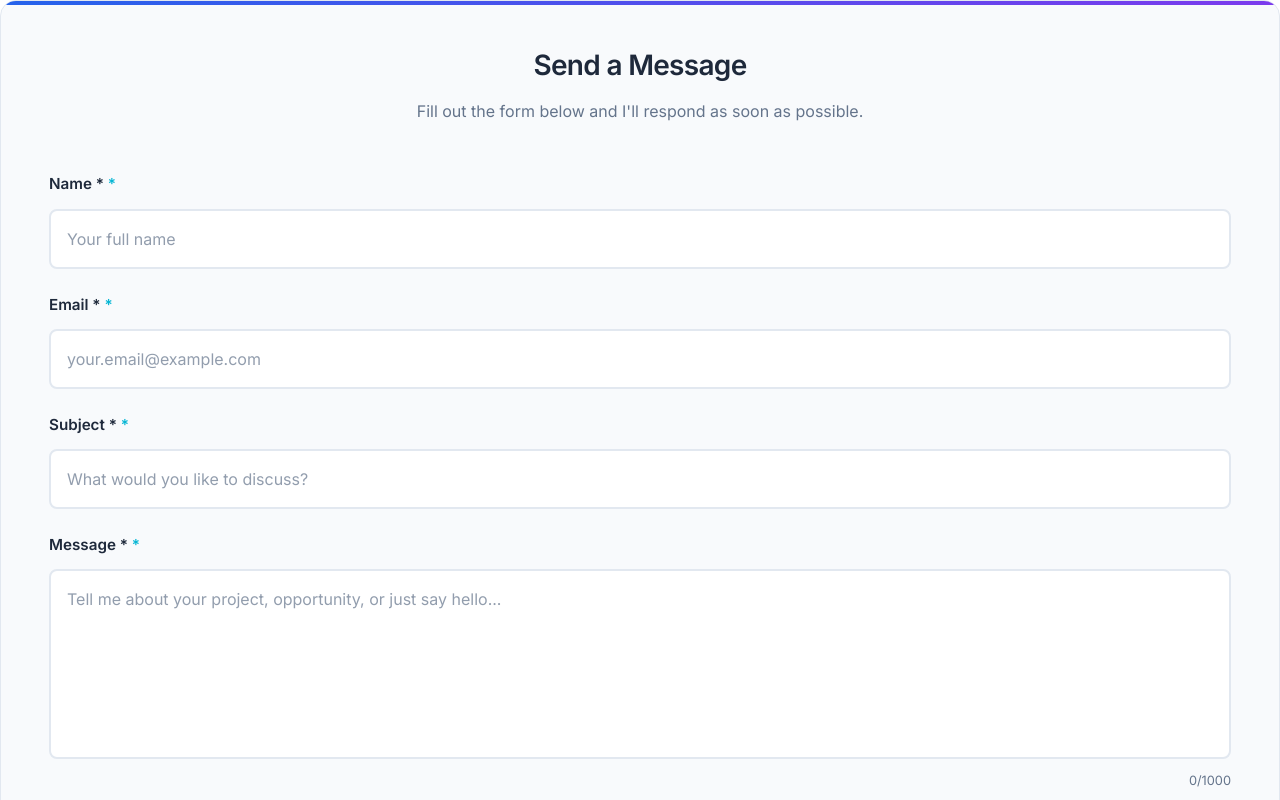
Test: Accessibility Compliance Tests › Screen Reader Support › should announce dynamic content changes
# Trigger validation error
Type "invalid" into the field labelled "Email *" at (640, 359), box [49, 329, 1231, 389]
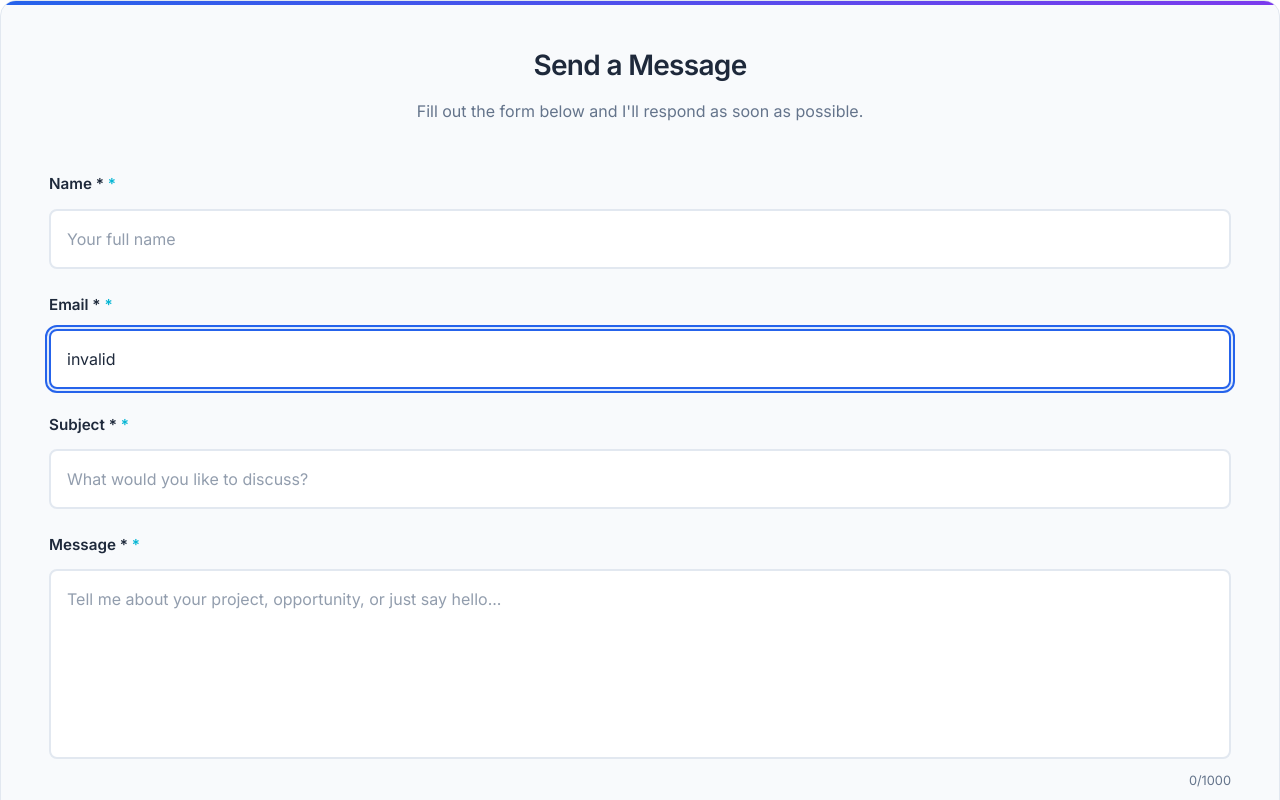
Press Tab
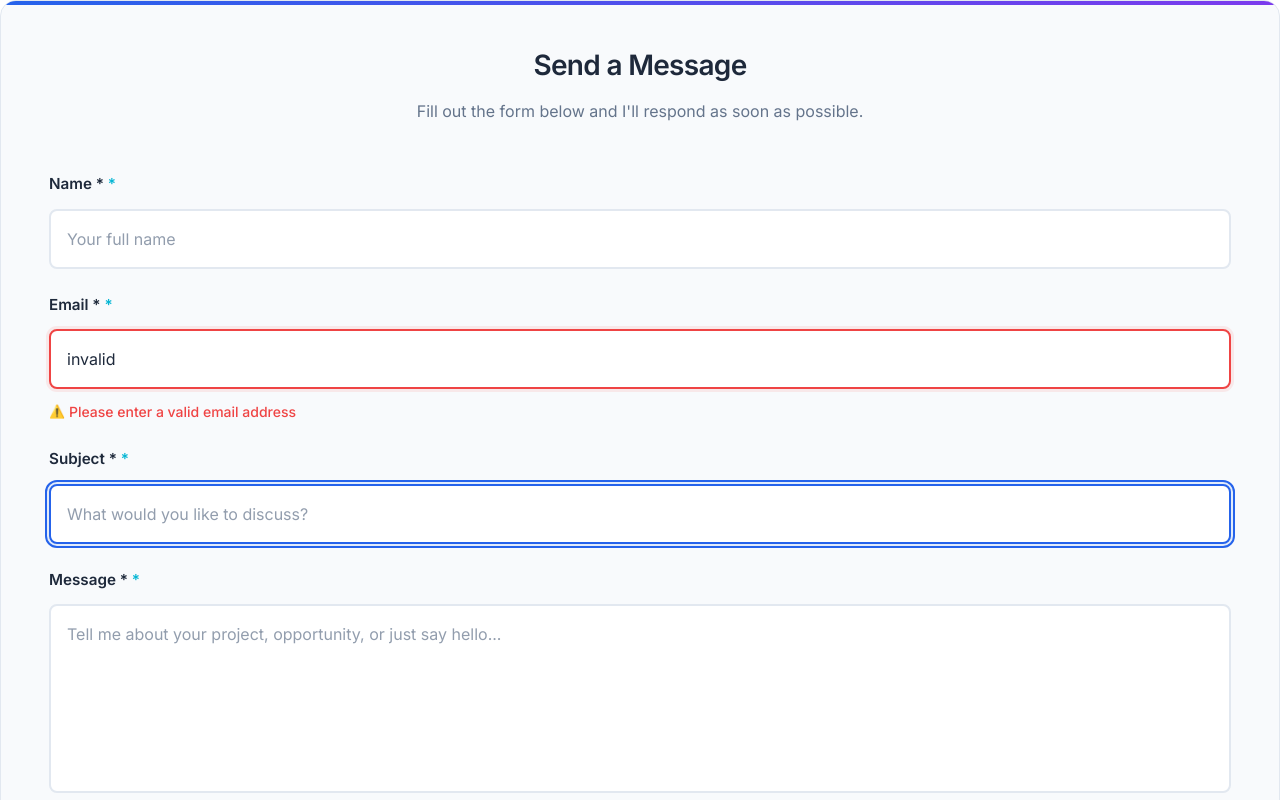
Expected: the message "Please enter a valid email address" is shown, [69, 403, 296, 420]
